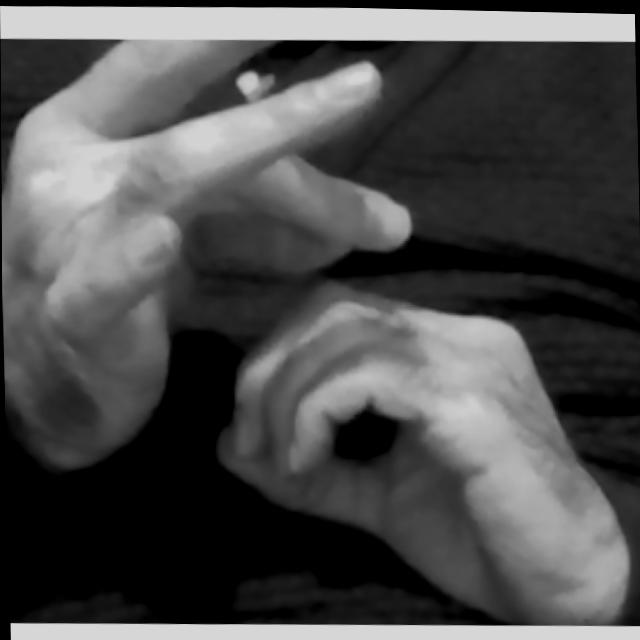O--: (0, 34, 633, 633)
